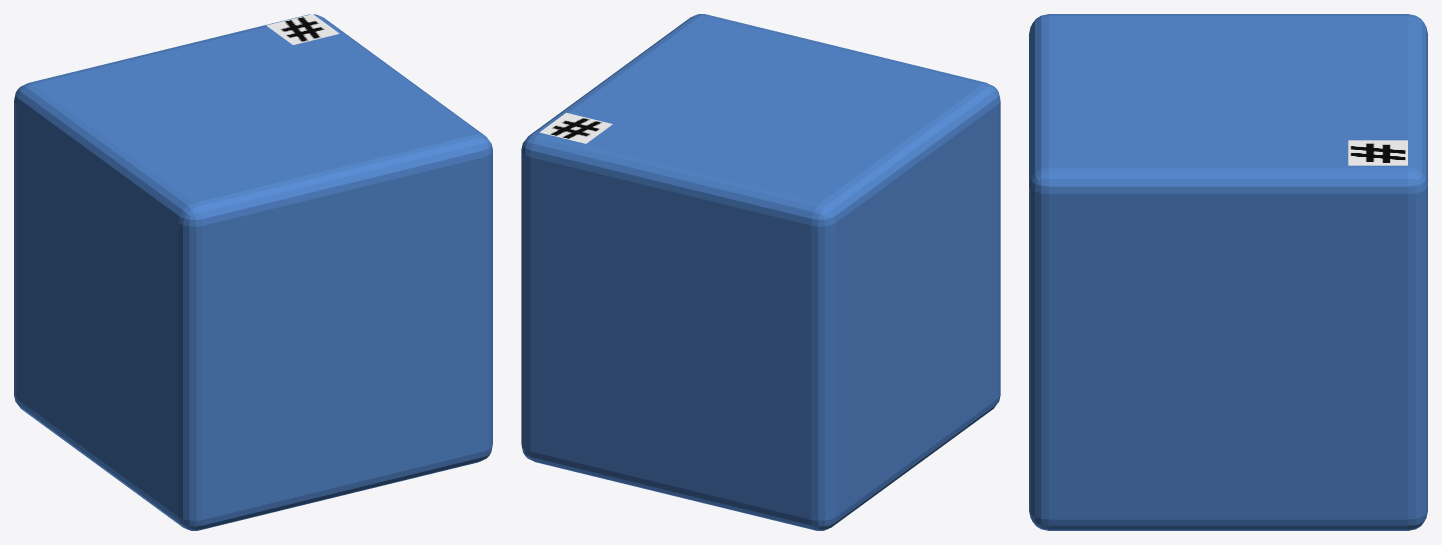
Rendered from Subjekt_Hashtag.dae.
3 renders of one model, left to right at view 1: azimuth 30°, elevation 25°; view 2: azimuth 150°, elevation 25°; view 3: azimuth 270°, elevation 25°, orthographic. The views are drawn at different scales.
Parts seen in each view (by area): view 1: Cube, Plane; view 2: Cube, Plane; view 3: Cube, Plane.
Part boxes in pixels (x1,y1,x2,y2): Cube: (14, 14, 492, 530); Plane: (266, 14, 339, 44); Cube: (521, 14, 1000, 530); Plane: (539, 112, 612, 143); Cube: (1029, 14, 1427, 530); Plane: (1348, 140, 1407, 165).
Bounding box in the file's own units: 2 × 2 × 2.01.
Materials: 2 (1 with a texture image).
